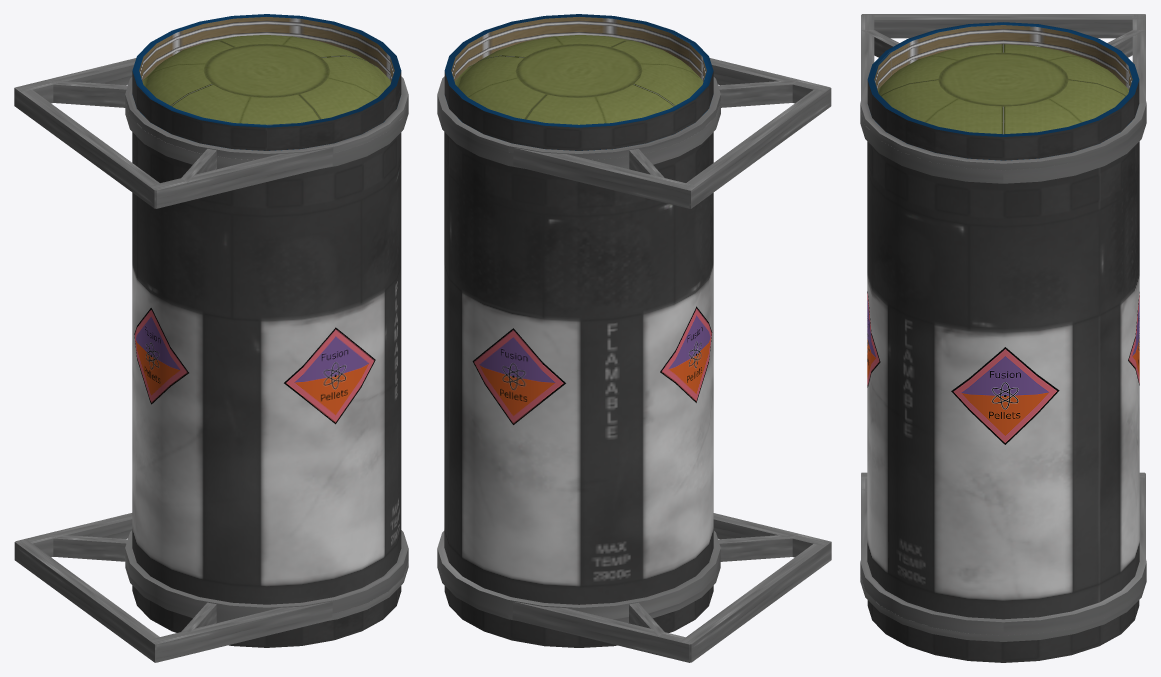
The model's file is FLM-1800.FBX.
The picture shows the model from 3 angles, left to right: view 1: azimuth 30°, elevation 25°; view 2: azimuth 150°, elevation 25°; view 3: azimuth 270°, elevation 25°; orthographic projection.
Visible parts, largest first — view 1: TankBody, EndCap001, TankSleeve001, decalPanel002, Box007, Box006, MountingBracketBand002, Box011, Box003, TankSleeve002, BarrelBand003, decalPanel003 (+7 smaller); view 2: TankBody, EndCap001, TankSleeve001, decalPanel004, MountingBracketBand002, Box001, Box010, Box011, Box003, TankSleeve002, BarrelBand003, decalPanel003 (+6 smaller); view 3: TankBody, EndCap001, TankSleeve001, TankSleeve002, MountingBracketBand002, decalPanel001, Box003, MountingBracketBand001, BarrelBand003, BarrelBand002, Box006, Box001 (+6 smaller).
Boxes of the visible parts, x1,y1,x2,y2 form: TankBody: (132, 132, 401, 604); EndCap001: (140, 35, 390, 150); TankSleeve001: (132, 14, 401, 150); decalPanel002: (284, 327, 375, 424); Box007: (150, 601, 332, 662); Box006: (150, 147, 333, 208); MountingBracketBand002: (125, 530, 408, 618); Box011: (14, 539, 159, 662); Box003: (14, 86, 159, 208); TankSleeve002: (132, 585, 401, 647); BarrelBand003: (125, 76, 408, 159); decalPanel003: (134, 308, 188, 404); TankBody: (444, 132, 713, 604); EndCap001: (455, 35, 707, 150); TankSleeve001: (444, 14, 713, 150); decalPanel004: (472, 328, 565, 424); MountingBracketBand002: (437, 530, 720, 619); Box001: (513, 147, 694, 208); Box010: (512, 601, 690, 662); Box011: (680, 540, 831, 662); Box003: (680, 88, 831, 208); TankSleeve002: (444, 586, 713, 647); BarrelBand003: (437, 76, 720, 159); decalPanel003: (660, 306, 712, 402); TankBody: (867, 141, 1139, 619); EndCap001: (875, 44, 1131, 160); TankSleeve001: (867, 22, 1139, 160); TankSleeve002: (867, 600, 1139, 662); MountingBracketBand002: (860, 544, 1146, 635); decalPanel001: (951, 347, 1059, 444); Box003: (862, 14, 1145, 38); MountingBracketBand001: (860, 110, 1146, 183); BarrelBand003: (860, 85, 1146, 170); BarrelBand002: (860, 575, 1146, 641); Box006: (861, 14, 874, 99); Box001: (1132, 14, 1145, 99).
Size of what is drawn, in the model's own units: 2.45 by 1.97 by 4.
